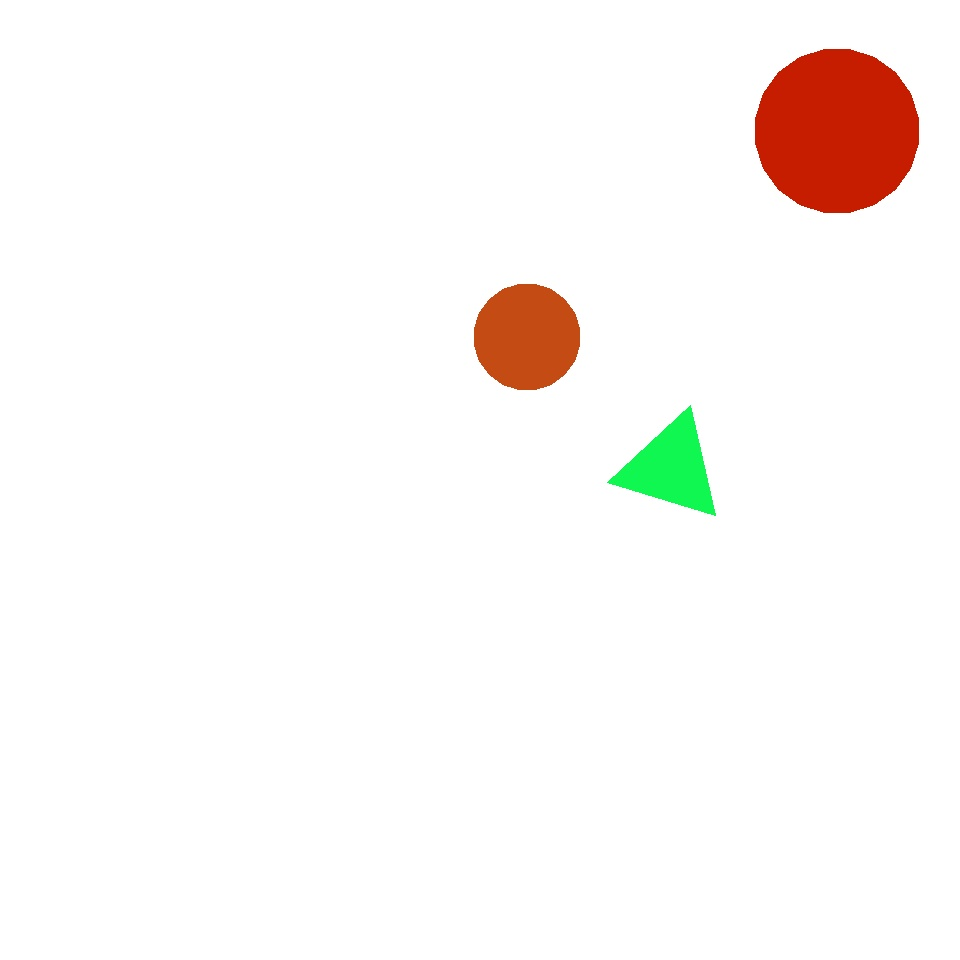circle: (532, 717, 686, 859), (617, 413, 725, 523)
square: (678, 316, 884, 520)
triangle: (755, 49, 918, 212), (474, 284, 580, 390)
